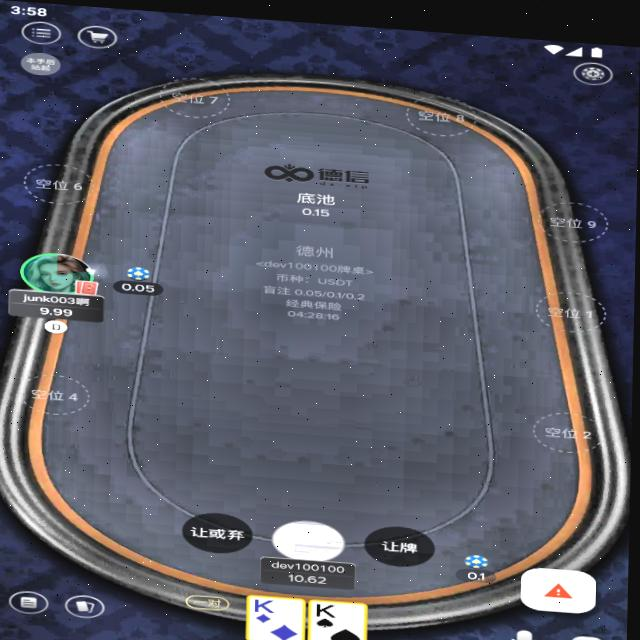Kf: (255, 593, 280, 610)
Ks: (316, 597, 343, 615)
